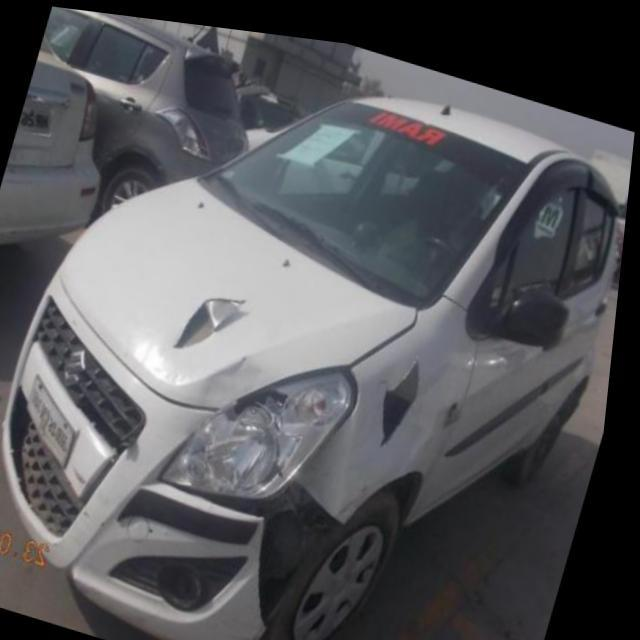lamp broken: (230, 375, 304, 441)
no part: (193, 472, 353, 513)
rub: (177, 290, 251, 341), (389, 346, 423, 432)
